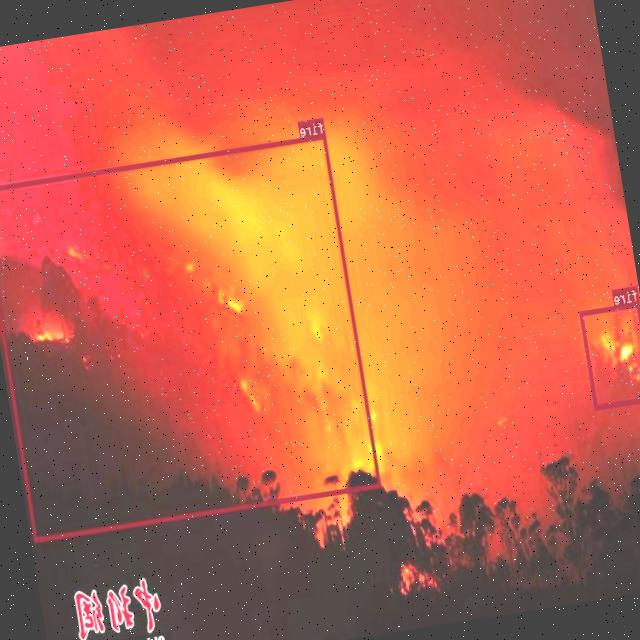fire: (0, 132, 382, 541), (579, 301, 640, 409)
